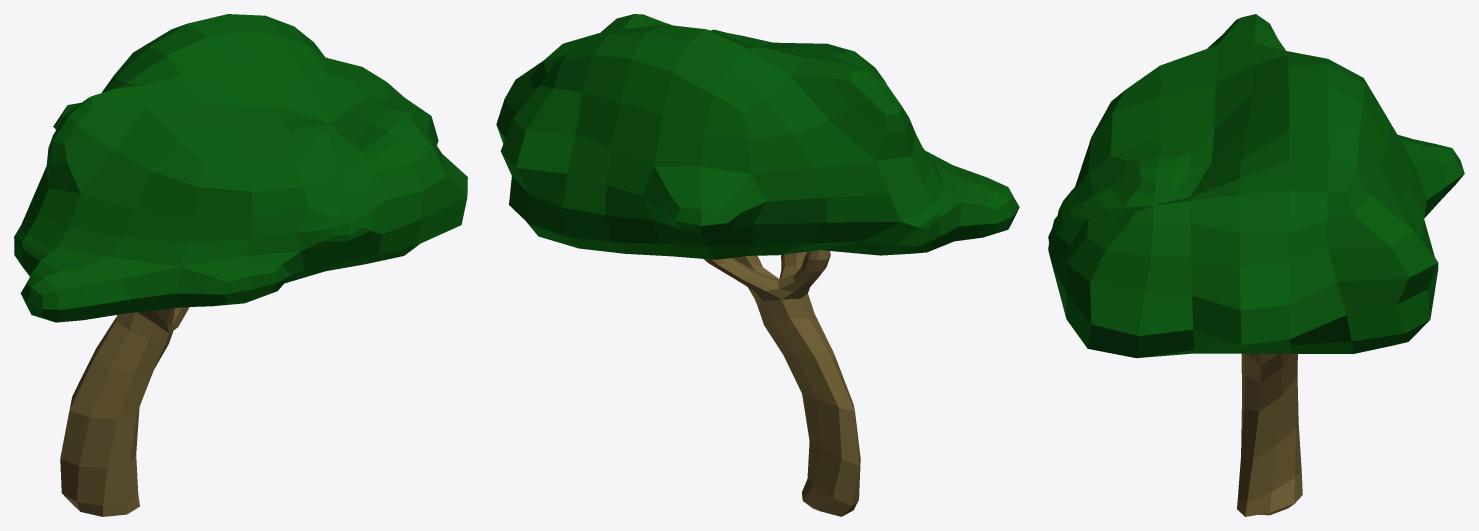
The model's file is Tree2.fbx.
3 renders of one model, left to right at view 1: azimuth 30°, elevation 25°; view 2: azimuth 150°, elevation 25°; view 3: azimuth 270°, elevation 25°, orthographic. The views are drawn at different scales.
Visible parts, largest first — view 1: Cube; view 2: Cube; view 3: Cube.
Part boxes in pixels (left/top/right/bottom): Cube: left=14, top=14, right=467, bottom=516; Cube: left=496, top=14, right=1019, bottom=516; Cube: left=1048, top=14, right=1464, bottom=516.
Bounding box in the file's own units: 200 × 186 × 140.
